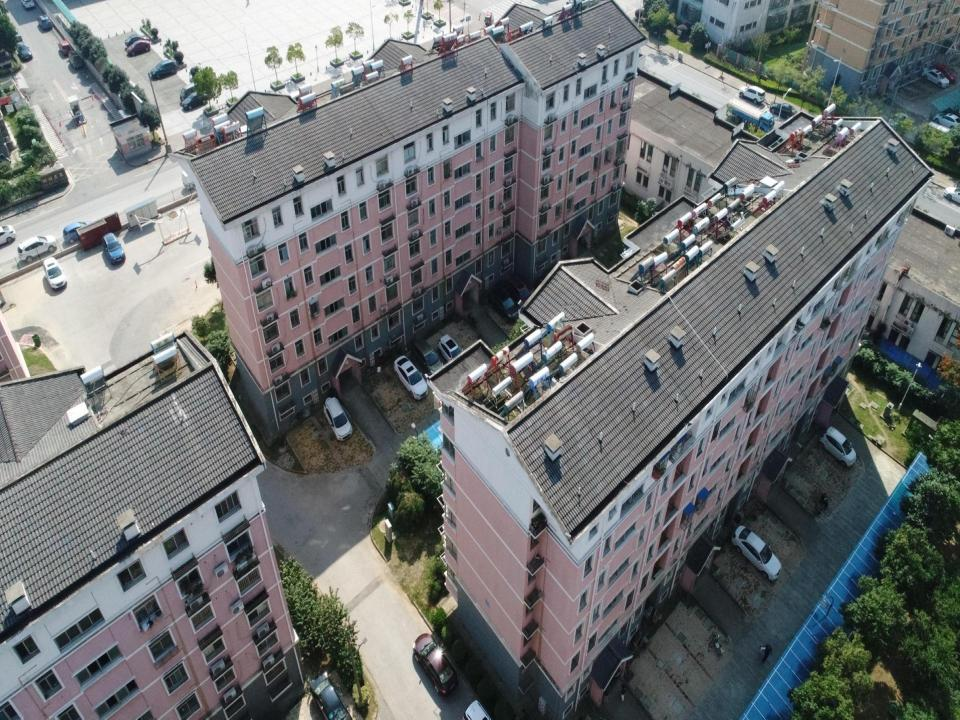bus: (68, 50, 82, 68)
car: (413, 632, 462, 697), (730, 524, 782, 581), (310, 672, 352, 719), (818, 425, 857, 468), (394, 355, 428, 399), (323, 396, 353, 441), (18, 234, 57, 264), (488, 288, 520, 323), (436, 334, 465, 365), (42, 256, 68, 290), (102, 232, 125, 264), (63, 221, 94, 244), (920, 67, 950, 88), (464, 699, 492, 719), (738, 85, 766, 105), (182, 90, 208, 111), (932, 111, 959, 131), (150, 59, 177, 79), (933, 63, 956, 84), (126, 38, 150, 57), (770, 103, 796, 119), (0, 225, 17, 247), (14, 41, 32, 61), (37, 14, 53, 31), (944, 186, 959, 204), (126, 33, 146, 46), (9, 26, 22, 43), (20, 0, 35, 10)
truck: (726, 97, 774, 134)
van: (411, 339, 444, 377), (507, 276, 533, 306), (179, 82, 202, 102), (58, 40, 72, 56)
